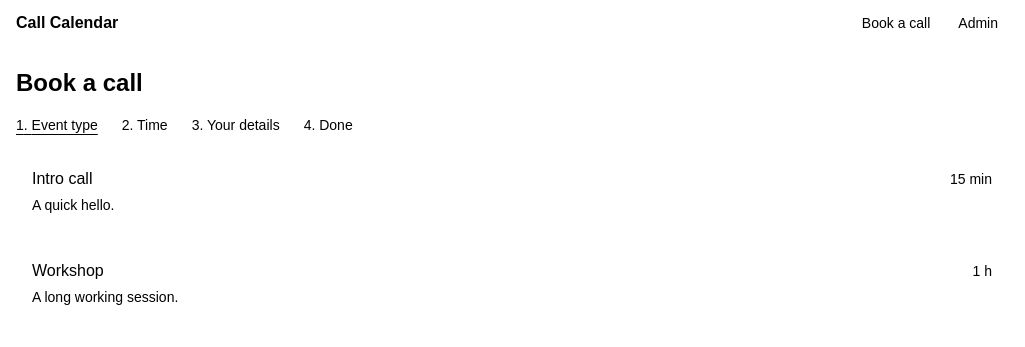
Scenario: booking page, step 2: time › moves to step 2 for the chosen event type, saying times are UTC
Click the button "Workshop 1 h A long working session.".
click(68, 270)  # box 16,243 -> 1008,323
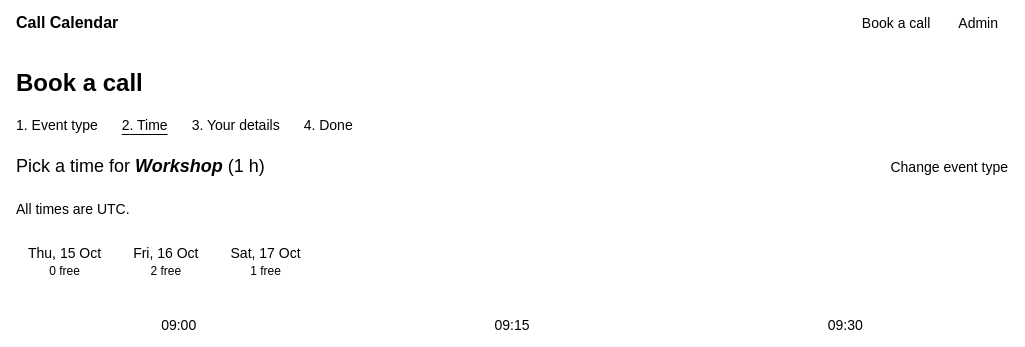
Expected: the heading "Pick a time for Workshop (1 h)" is shown, 16,152 -> 265,180
Expected: the text "All times are UTC." is shown, 16,201 -> 130,217
